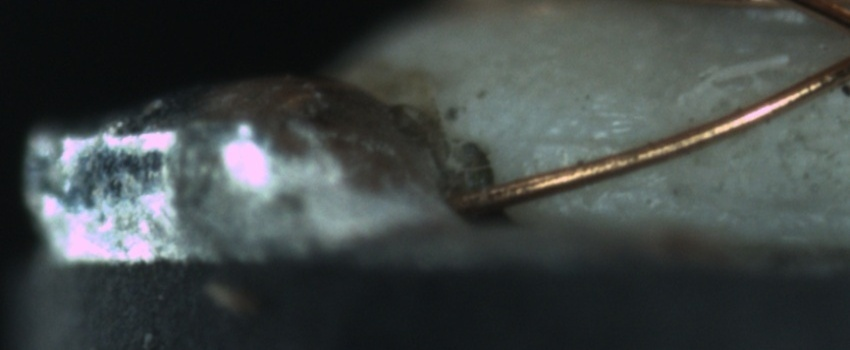DL: (520, 111, 644, 168)
